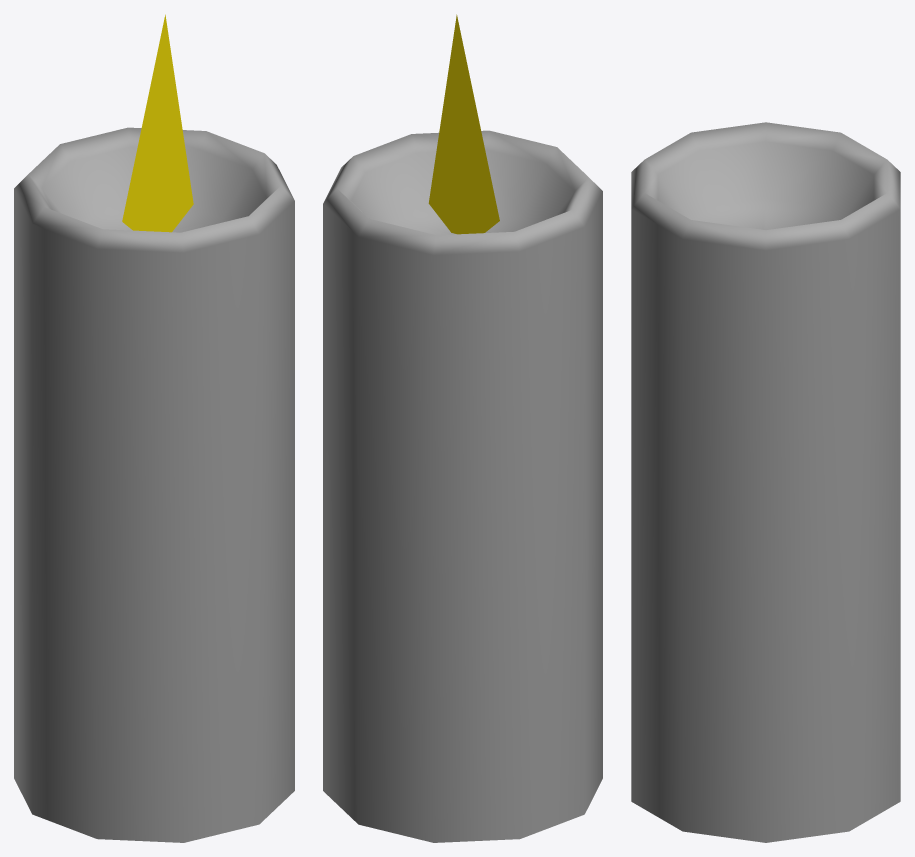
File: vela.fbx
3 renders of one model, left to right at view 1: azimuth 30°, elevation 25°; view 2: azimuth 150°, elevation 25°; view 3: azimuth 270°, elevation 25°, orthographic.
Parts seen in each view (by area): view 1: vela, fuego; view 2: vela, fuego; view 3: vela.
Part boxes in pixels (x1=…): vela: x1=14, y1=127, x2=294, y2=842; fuego: x1=122, y1=14, x2=193, y2=232; vela: x1=323, y1=130, x2=602, y2=842; fuego: x1=428, y1=14, x2=499, y2=234; vela: x1=631, y1=122, x2=900, y2=842.
Size of the model in its own units: 19.2 by 57.79 by 18.26.
